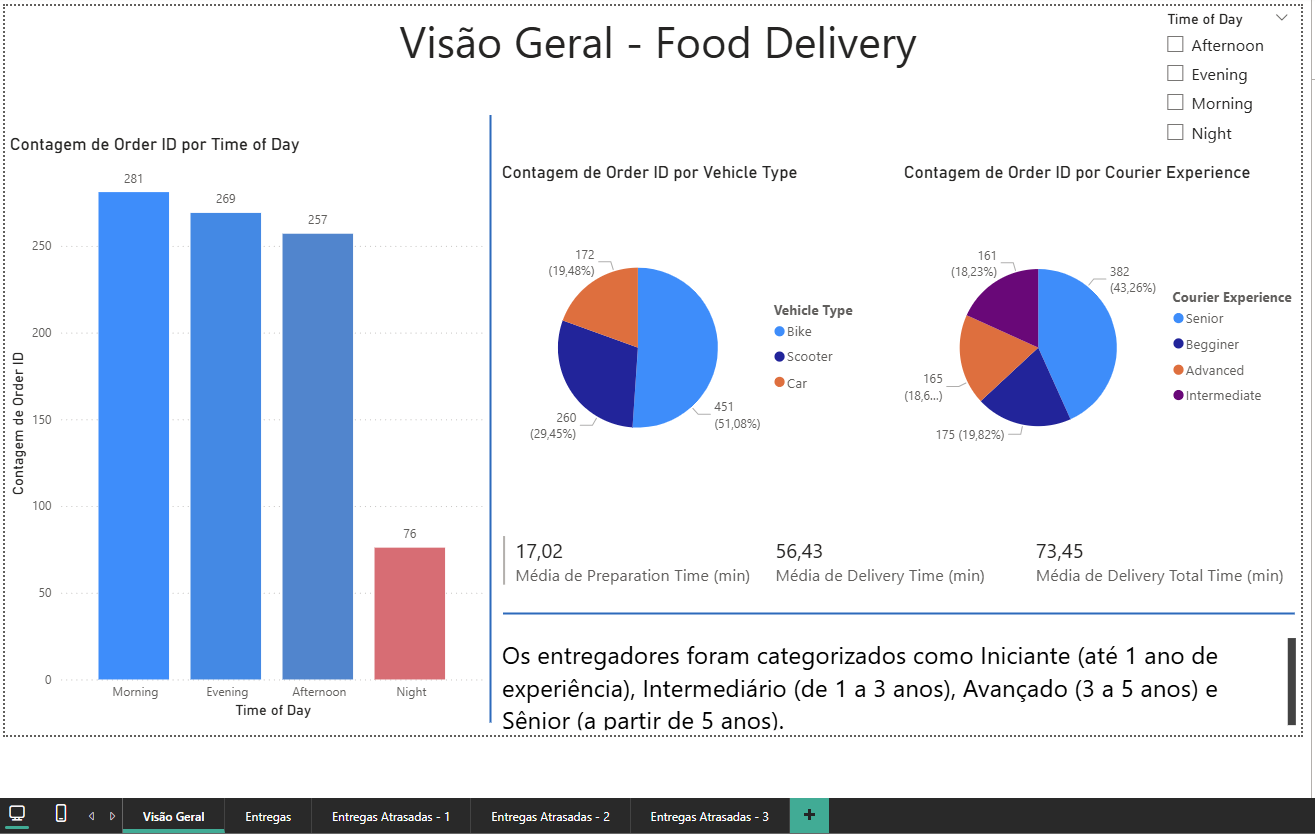

Layout of this report page (visuals, bound fields, positions):
{"tool":"powerbi","page":{"name":"Visão Geral","canvas":[1280,720],"ordinal":0},"visuals":[{"type":"textbox","box":[9.7,0,1270.3,68.1],"z":0},{"type":"pieChart","fields":{"Category":["df_food_delivery.Courier_Experience"],"Y":["CountNonNull(df_food_delivery.Order_ID)"]},"box":[883,154.1,397,347.7],"z":1000},{"type":"pieChart","fields":{"Category":["df_food_delivery.Vehicle_Type"],"Y":["CountNonNull(df_food_delivery.Order_ID)"]},"box":[485.9,154.1,373.3,347.7],"z":2000},{"type":"columnChart","fields":{"Y":["CountNonNull(df_food_delivery.Order_ID)"],"Category":["df_food_delivery.Time of Day"]},"box":[0,126.4,479,581.7],"z":3000},{"type":"slicer","fields":{"Values":["df_food_delivery.Time_of_Day"]},"box":[1134.8,0,145.2,154.1],"z":4000},{"type":"multiRowCard","fields":{"Values":["Avg(df_food_delivery.Preparation Time (min))","Avg(df_food_delivery.Delivery Time (min))","Avg(df_food_delivery.Delivery Total Time (min))"]},"box":[486.9,518.5,793.1,71.1],"z":5000},{"type":"textbox","box":[485.9,619.3,794.1,100.7],"z":6000},{"type":"shape","box":[473.1,107.7,12.8,600.5],"z":6001},{"type":"shape","box":[491.9,589.6,782.2,20.7],"z":6002}]}

Visuals, with their boxes on the page's 1280x720 design canvas (x1, y1, x2, y2). These are canvas units, not pixel positions in the 1315x834 screenshot, which may show the page scaled, cropped or inside an application window:
textbox: box=[10, 0, 1280, 68]
pieChart - df_food_delivery.Courier_Experience x CountNonNull(df_food_delivery.Order_ID): box=[883, 154, 1280, 502]
pieChart - df_food_delivery.Vehicle_Type x CountNonNull(df_food_delivery.Order_ID): box=[486, 154, 859, 502]
columnChart - CountNonNull(df_food_delivery.Order_ID) x df_food_delivery.Time of Day: box=[0, 126, 479, 708]
slicer - df_food_delivery.Time_of_Day: box=[1135, 0, 1280, 154]
multiRowCard - Avg(df_food_delivery.Preparation Time (min)) x Avg(df_food_delivery.Delivery Time (min)): box=[487, 518, 1280, 590]
textbox: box=[486, 619, 1280, 720]
shape: box=[473, 108, 486, 708]
shape: box=[492, 590, 1274, 610]
